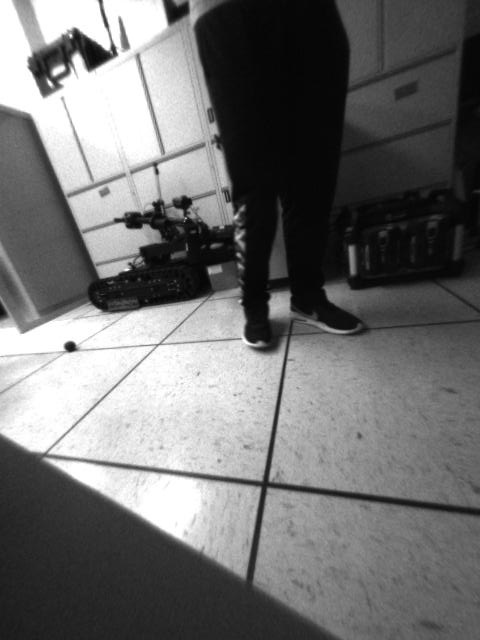dogtoy: (58, 333, 85, 358)
